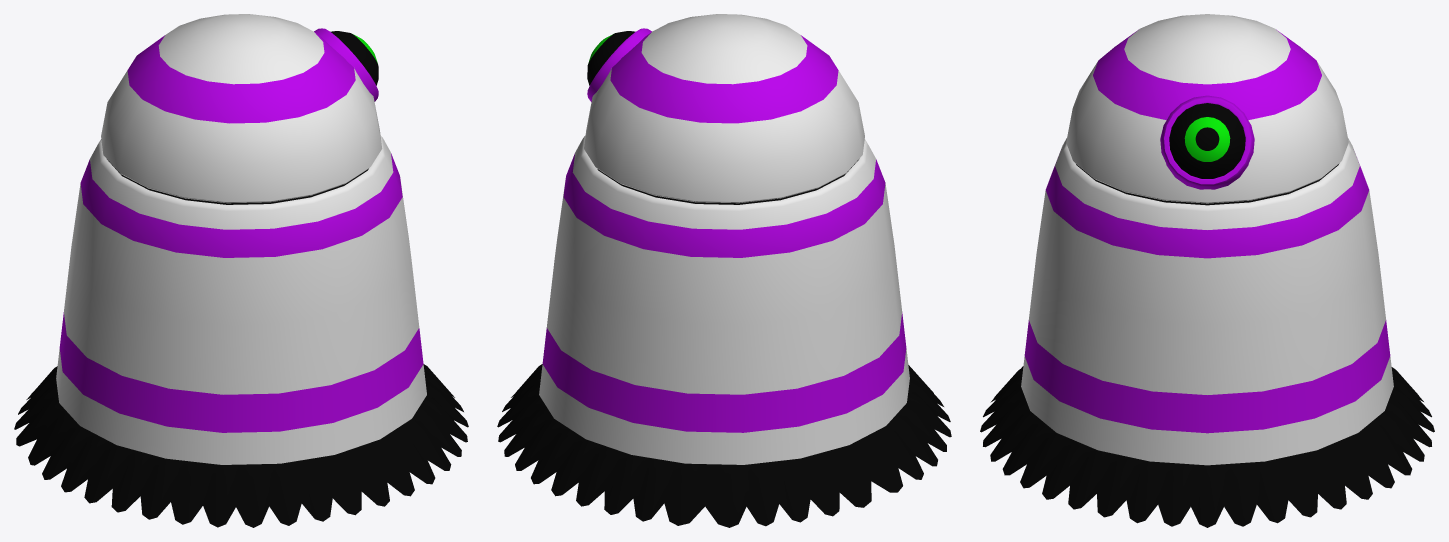
Rendered from roboCleaner.fbx.
3 renders of one model, left to right at view 1: azimuth 30°, elevation 25°; view 2: azimuth 150°, elevation 25°; view 3: azimuth 270°, elevation 25°, orthographic.
Parts seen in each view (by area): view 1: body, head, brush, eye; view 2: body, head, brush, eye; view 3: body, head, brush, eye.
Part boxes in pixels (x1,y1,x2,y2): body: (56,136,426,464); head: (101,14,382,203); brush: (14,364,468,527); eye: (314,28,378,101); body: (539,135,909,464); head: (584,14,864,203); brush: (497,364,951,527); eye: (587,28,651,101); body: (1021,138,1393,465); head: (1066,14,1348,203); brush: (980,366,1434,527); eye: (1160,95,1254,189).
Bounding box in the file's own units: 3.1 × 3.04 × 3.1.
